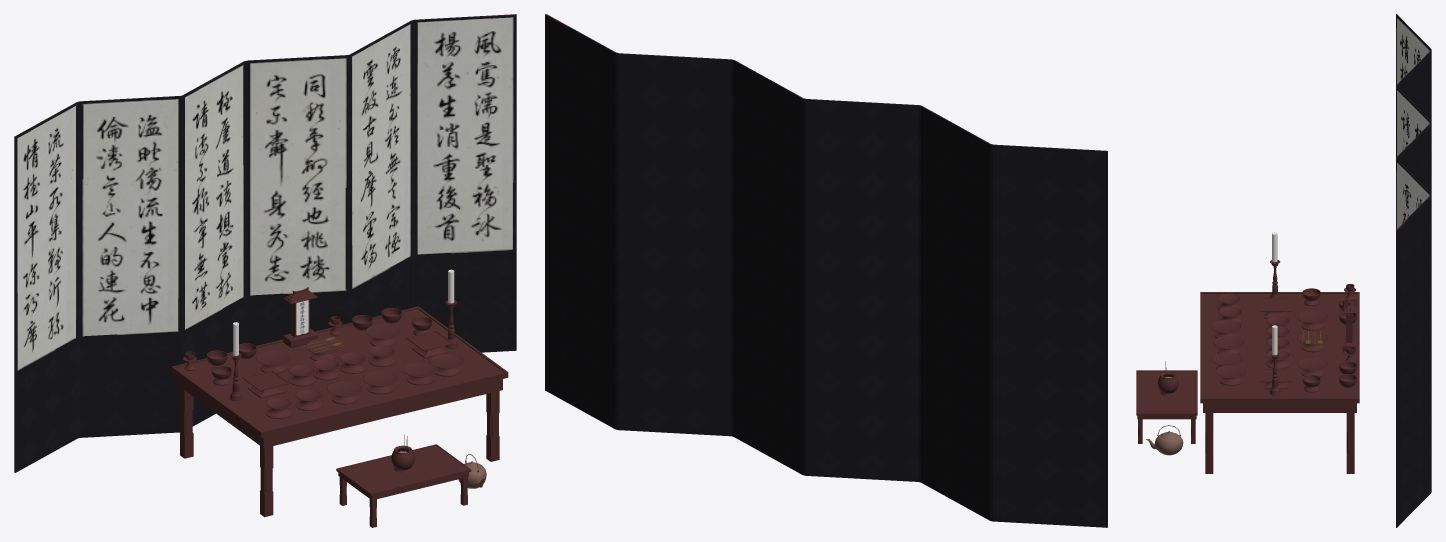
File: teble.fbx
The picture shows the model from 3 angles, left to right: view 1: azimuth 30°, elevation 25°; view 2: azimuth 150°, elevation 25°; view 3: azimuth 270°, elevation 25°; orthographic projection. The views are drawn at different scales.
Visible parts, largest first — view 1: Cube.265, Cube.269, Cube.126, Cube.264, Plane.022, Plane.021, Plane.004, Plane.057, Plane.005, Plane.006, Plane.009, Plane.011; view 2: Cube.265; view 3: Cube.265, Cube.269, Cube.126, Plane.022, Cube.264, Plane.021, Plane.011, Plane.006, Sphere.018, Plane.009, Plane.055, Plane.057 (+3 smaller).
Part boxes in pixels (bbox=[...]): Cube.265: bbox=[14, 14, 516, 472]; Cube.269: bbox=[171, 306, 508, 517]; Cube.126: bbox=[336, 444, 471, 527]; Cube.264: bbox=[283, 287, 318, 347]; Plane.022: bbox=[242, 370, 289, 398]; Plane.021: bbox=[406, 330, 453, 358]; Plane.004: bbox=[327, 381, 362, 404]; Plane.057: bbox=[363, 371, 397, 394]; Plane.005: bbox=[403, 362, 437, 385]; Plane.006: bbox=[429, 353, 464, 376]; Plane.009: bbox=[365, 324, 400, 346]; Plane.011: bbox=[256, 351, 290, 373]; Cube.265: bbox=[545, 14, 1107, 527]; Cube.265: bbox=[1396, 14, 1431, 527]; Cube.269: bbox=[1200, 292, 1359, 473]; Cube.126: bbox=[1136, 370, 1197, 443]; Plane.022: bbox=[1260, 298, 1291, 318]; Cube.264: bbox=[1342, 296, 1355, 352]; Plane.021: bbox=[1260, 368, 1291, 389]; Plane.011: bbox=[1297, 310, 1328, 330]; Plane.006: bbox=[1216, 365, 1246, 385]; Sphere.018: bbox=[1146, 433, 1183, 455]; Plane.009: bbox=[1297, 357, 1328, 376]; Plane.055: bbox=[1297, 331, 1328, 352]; Plane.057: bbox=[1213, 336, 1244, 354].
Size of the model in its own units: 250 by 160 by 144.
